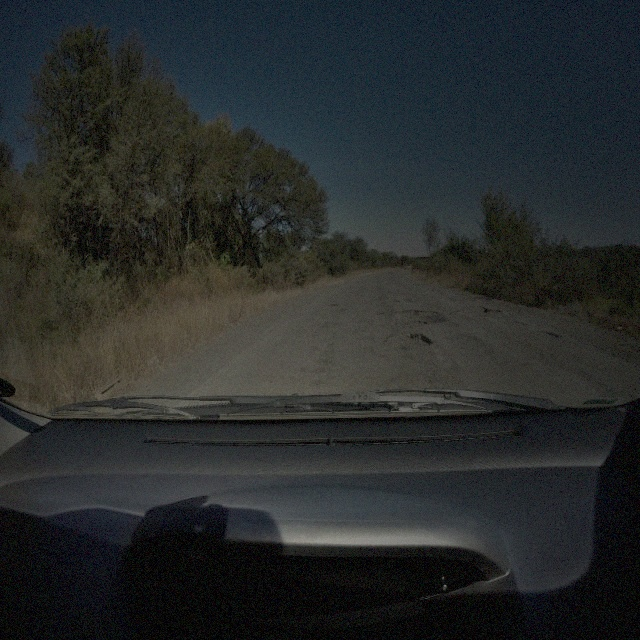pothole: (390, 307, 439, 329), (384, 330, 431, 348), (449, 303, 499, 318), (534, 326, 558, 341)
